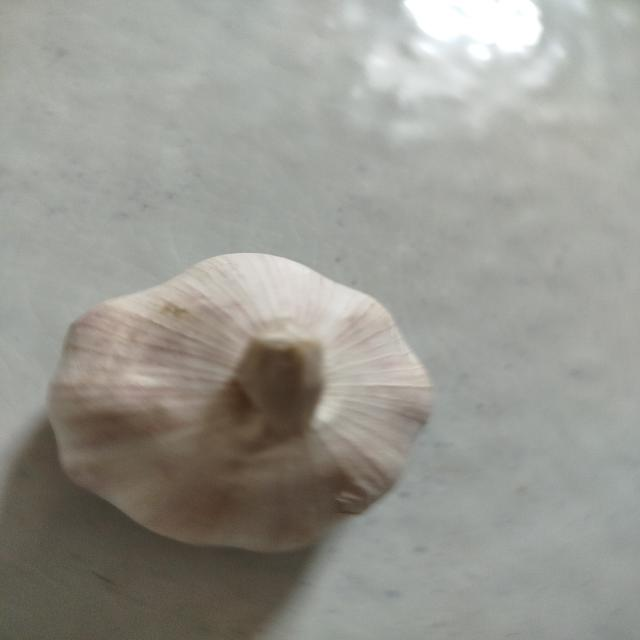garlic: (45, 251, 434, 554)
